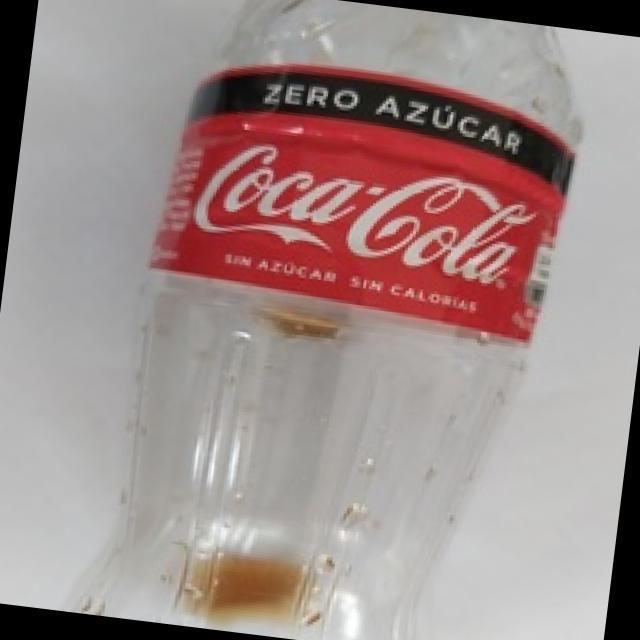good: (126, 0, 595, 640)
